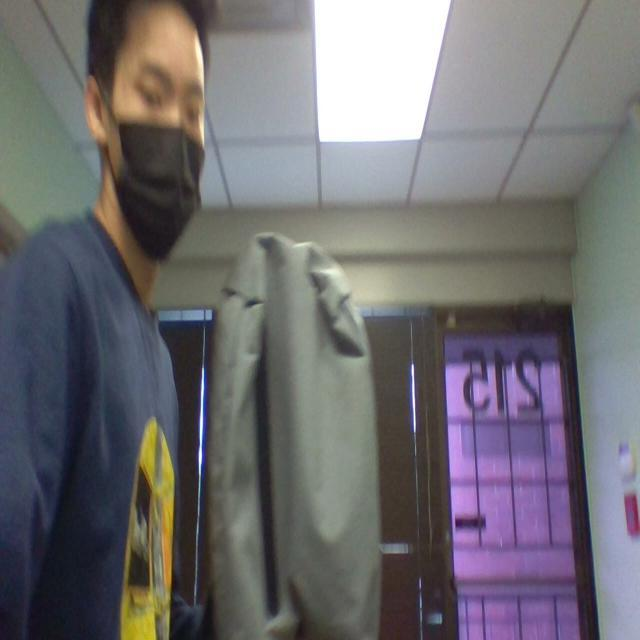Backpacks: (203, 229, 389, 636)
